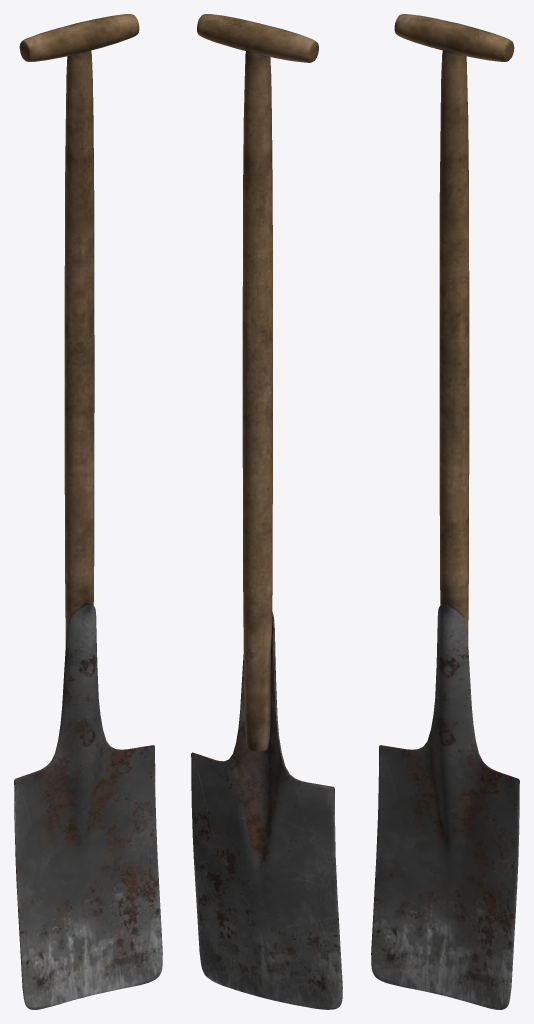
The model's file is rusted_spade_01.glb.
3 views of the same model, side by side, from view 1: azimuth 30°, elevation 25°; view 2: azimuth 150°, elevation 25°; view 3: azimuth 330°, elevation 25° (orthographic). The views are drawn at different scales.
Parts seen in each view (by area): view 1: rusted_spade_01; view 2: rusted_spade_01; view 3: rusted_spade_01.
Boxes of the visible parts, <box> form: rusted_spade_01: <box>14,14,162,1009</box>; rusted_spade_01: <box>191,14,342,1009</box>; rusted_spade_01: <box>371,14,519,1009</box>.
Size of the model in its own units: 0.1681 by 1.1 by 0.0456.
Materials: 1 (1 with a texture image).
